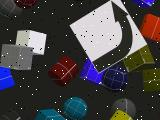Left: (70, 0, 148, 74)
